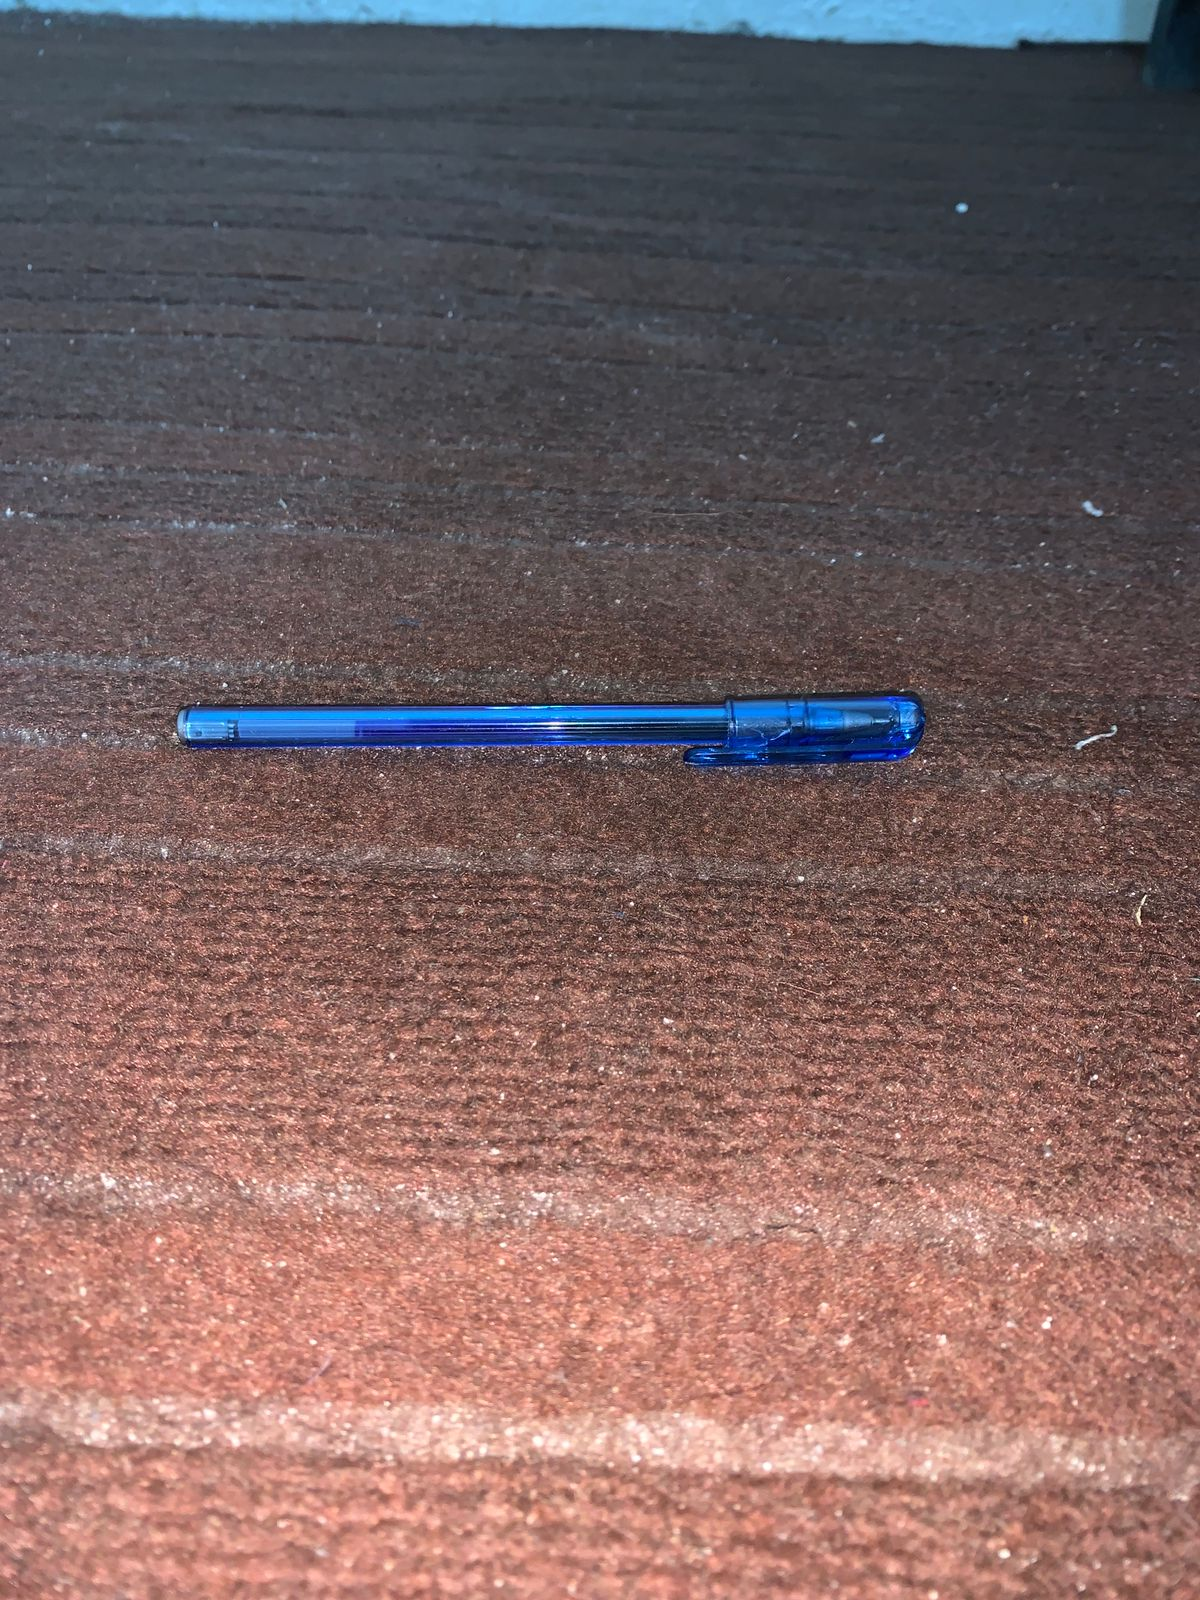pen: (67, 588, 1014, 920)
